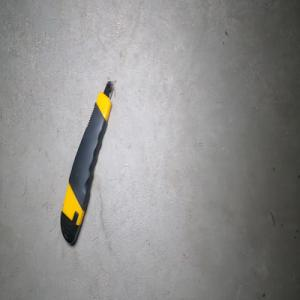Cutter: (59, 79, 115, 245)
